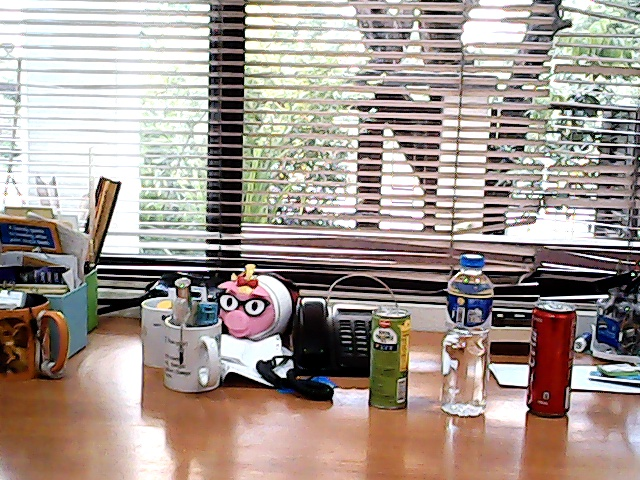Cola: (513, 289, 588, 428)
Pine Juice: (357, 298, 421, 422)
Summit Water: (433, 246, 501, 428)
